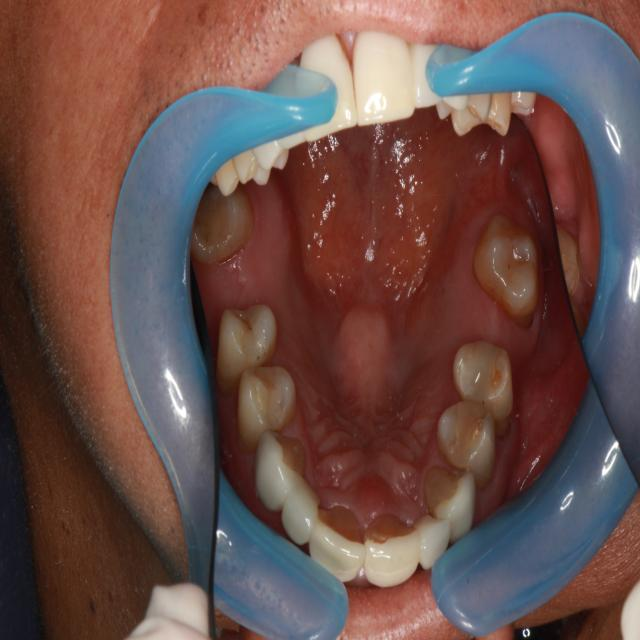tooth: (468, 208, 546, 331), (208, 297, 286, 400), (184, 179, 258, 275), (235, 358, 301, 454), (450, 337, 519, 424), (434, 396, 498, 485), (251, 421, 309, 518), (306, 498, 368, 588), (359, 506, 423, 593), (421, 463, 482, 545), (277, 475, 323, 550), (407, 502, 454, 572)
